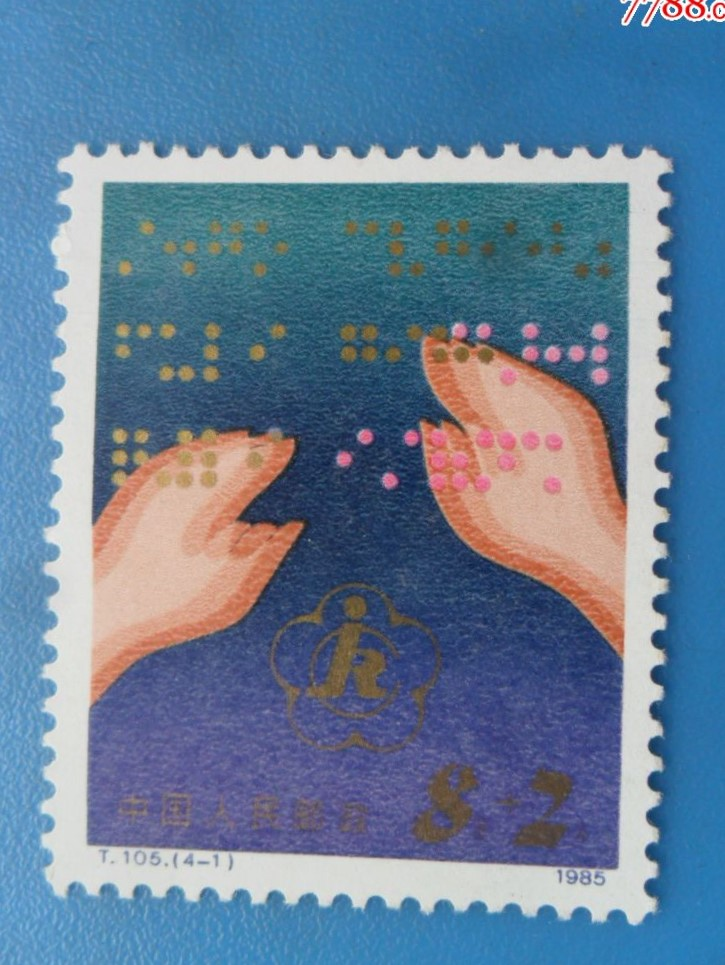Braille: (425, 425, 469, 495), (473, 321, 519, 387), (519, 320, 563, 389), (520, 427, 564, 496), (334, 423, 377, 493), (567, 322, 611, 388), (476, 427, 518, 496), (376, 426, 419, 493), (245, 424, 284, 496), (382, 321, 425, 386), (337, 323, 381, 386), (152, 427, 193, 492), (157, 317, 197, 383), (112, 426, 150, 492), (248, 319, 286, 384), (113, 319, 152, 382), (432, 321, 470, 385), (528, 220, 566, 283), (201, 431, 240, 491), (202, 320, 239, 382), (577, 222, 613, 285), (434, 217, 469, 280), (117, 222, 156, 278), (388, 222, 426, 279), (254, 219, 288, 282), (483, 219, 518, 280), (160, 225, 199, 278), (208, 219, 243, 278), (345, 220, 380, 277)
